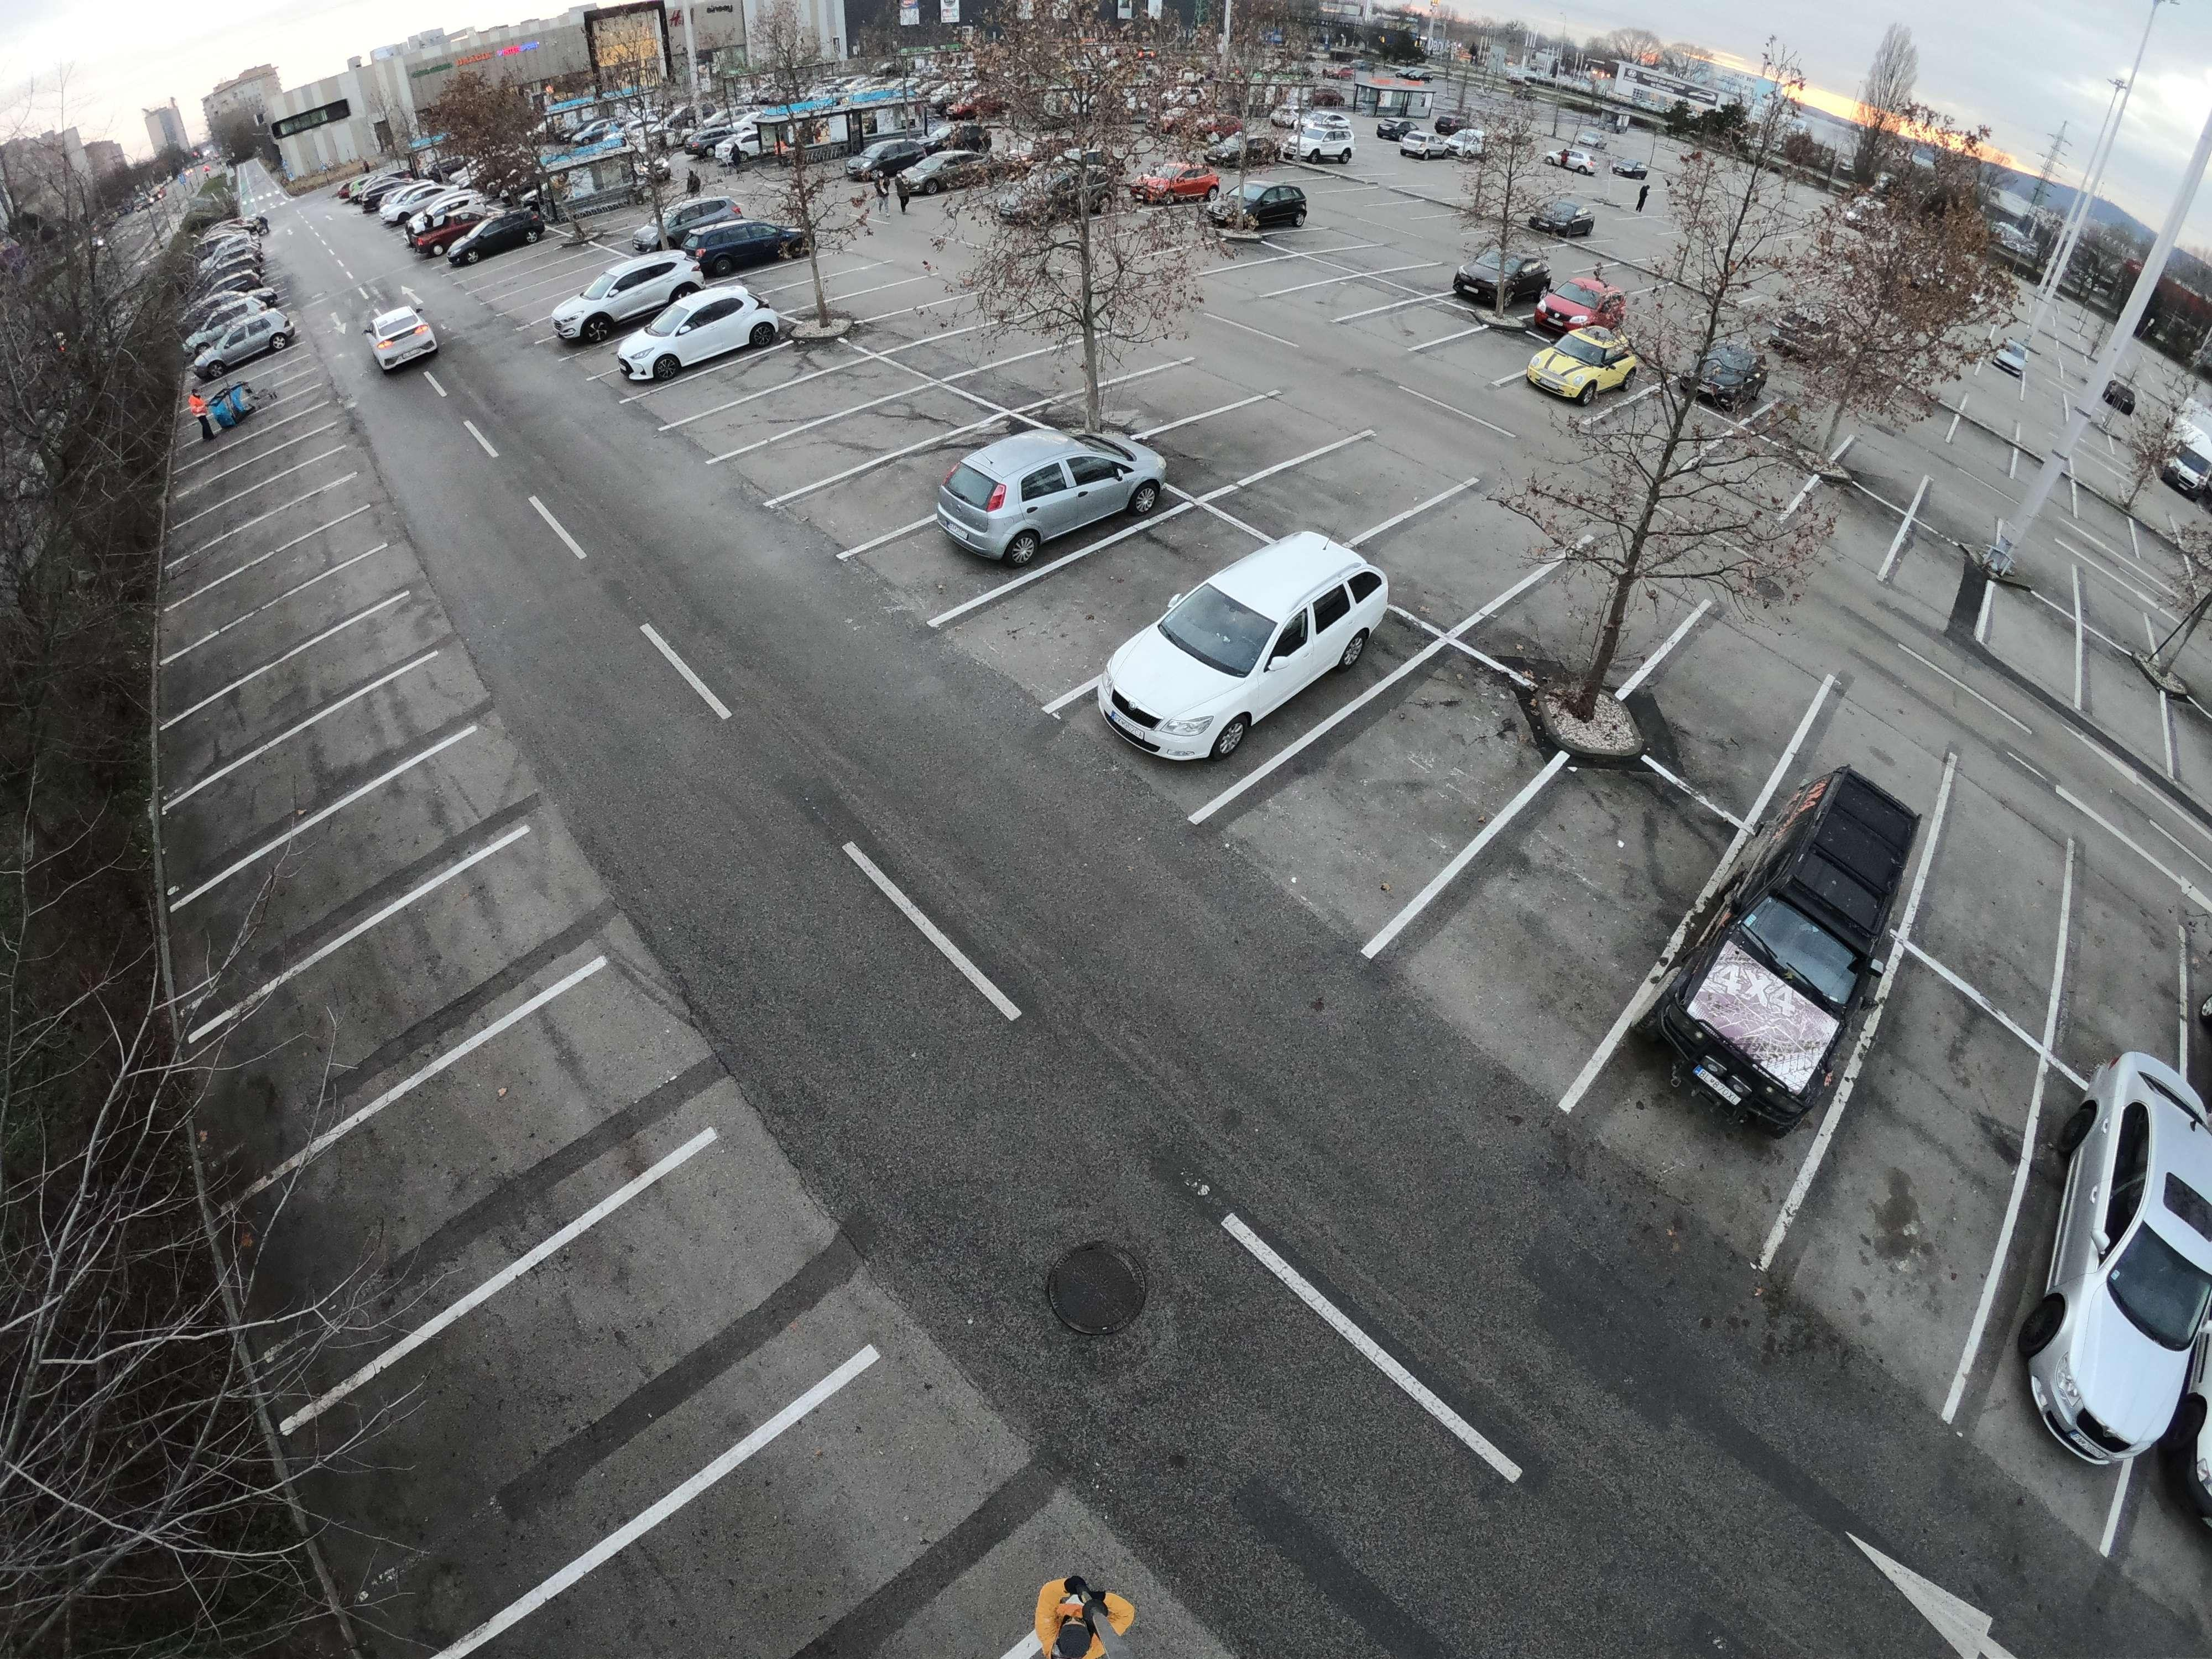empty: (1658, 769, 1886, 1188), (2008, 1033, 2209, 1483), (1101, 533, 1402, 765), (928, 422, 1165, 565), (620, 293, 787, 383), (540, 260, 698, 342), (1527, 335, 1648, 410), (991, 160, 1120, 227), (1670, 333, 1775, 410), (686, 214, 812, 274), (186, 314, 298, 378), (1209, 183, 1318, 242), (434, 209, 547, 265), (366, 305, 451, 375), (1453, 260, 1547, 319), (1529, 202, 1597, 244)
occupied: (463, 1274, 740, 1445), (681, 1481, 963, 1633), (331, 1091, 594, 1239), (289, 908, 540, 1053), (1479, 828, 1677, 962), (1843, 1091, 2012, 1248), (249, 807, 462, 910), (1808, 702, 1963, 840), (1331, 720, 1510, 824), (237, 714, 413, 809), (1646, 629, 1806, 730), (1932, 866, 2074, 978), (2066, 927, 2198, 1046), (1980, 586, 2085, 702), (1886, 519, 1980, 641), (2081, 627, 2161, 760), (1797, 462, 1886, 579), (1073, 544, 1207, 617), (1522, 577, 1637, 655), (1411, 509, 1536, 580), (260, 650, 378, 714), (1285, 469, 1400, 521), (1190, 418, 1285, 469), (866, 462, 958, 514), (246, 594, 331, 645), (740, 361, 831, 408), (1001, 354, 1094, 399), (1127, 378, 1219, 418), (770, 382, 857, 420), (1451, 338, 1529, 378), (831, 420, 906, 453), (1393, 308, 1463, 343), (235, 514, 287, 559), (249, 551, 298, 598), (1331, 286, 1402, 315), (949, 317, 996, 359), (230, 486, 273, 519)
